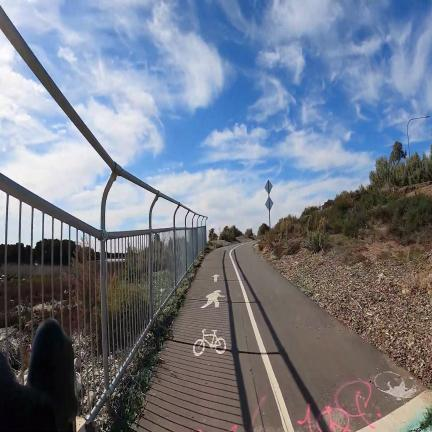Bike_Lane: (135, 242, 412, 432)
